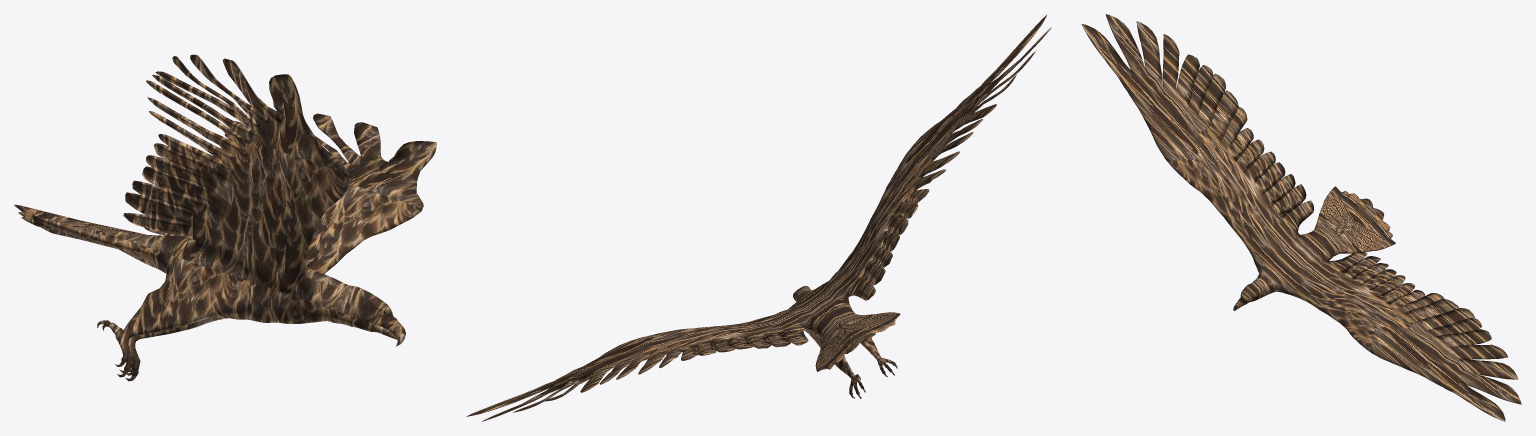
The model's file is eagle2.obj.
3 renders of one model, left to right at view 1: azimuth 30°, elevation 25°; view 2: azimuth 150°, elevation 25°; view 3: azimuth 270°, elevation 25°, orthographic. The views are drawn at different scales.
Parts seen in each view (by area): view 1: EAGLE_2; view 2: EAGLE_2; view 3: EAGLE_2.
Part boxes in pixels (x1=…): EAGLE_2: x1=14, y1=54, x2=436, y2=381; EAGLE_2: x1=466, y1=14, x2=1051, y2=421; EAGLE_2: x1=1081, y1=14, x2=1521, y2=421.
Bounding box in the file's own units: 2.29 × 1.88 × 2.87.
1 material, 1 textured.
